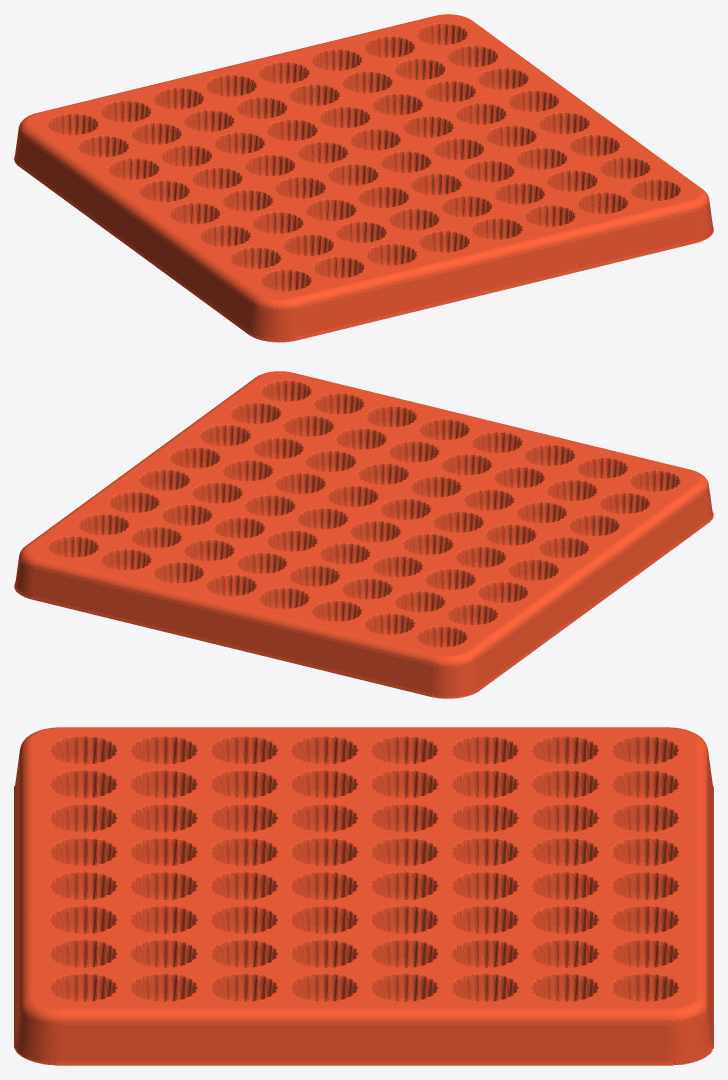
Rendered from mold.glb.
The picture shows the model from 3 angles, top to bottom: view 1: azimuth 30°, elevation 25°; view 2: azimuth 150°, elevation 25°; view 3: azimuth 270°, elevation 25°; orthographic projection. The views are drawn at different scales.
Parts seen in each view (by area): view 1: geometry_0; view 2: geometry_0; view 3: geometry_0.
Boxes of the visible parts, x1,y1,x2,y2 form: geometry_0: [14, 14, 713, 342]; geometry_0: [14, 371, 713, 698]; geometry_0: [14, 727, 713, 1065].
Size of the model in its own units: 0.1355 by 0.0105 by 0.1355.
